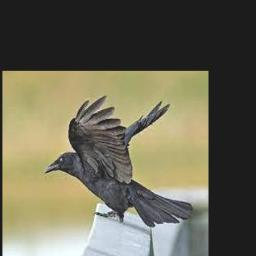Crow: (44, 96, 192, 227)
